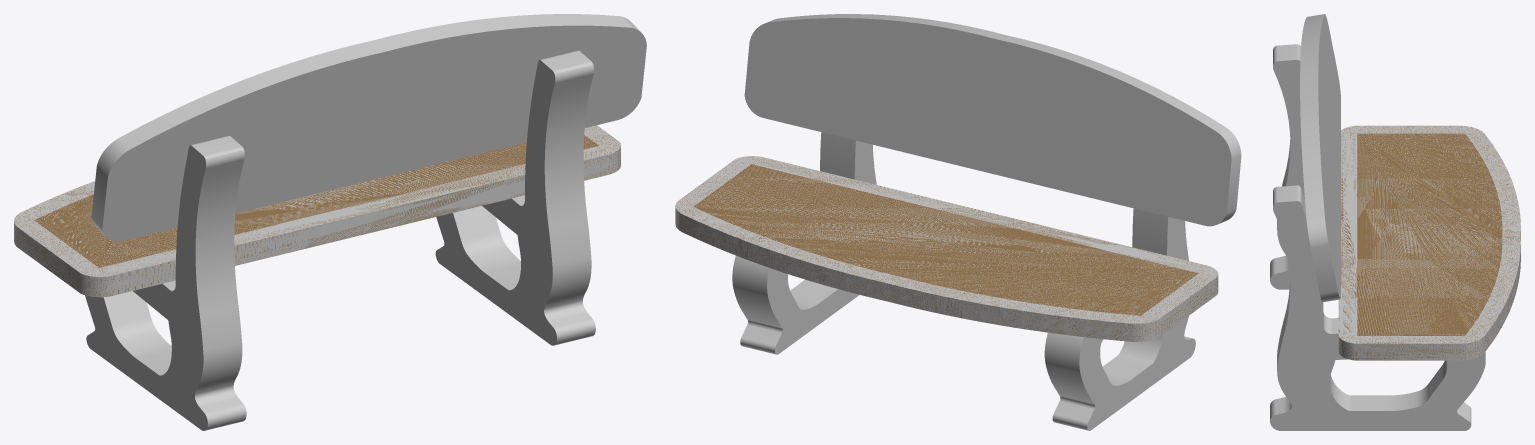
3 views of the same model, side by side, from view 1: azimuth 30°, elevation 25°; view 2: azimuth 150°, elevation 25°; view 3: azimuth 270°, elevation 25° (orthographic). The views are drawn at different scales.
Visible parts, largest first — view 1: mesh8_mesh8-geometry, mesh7_mesh7-geometry, mesh4_mesh4-geometry, mesh1_mesh1-geometry; view 2: mesh8_mesh8-geometry, mesh7_mesh7-geometry, mesh4_mesh4-geometry, mesh1_mesh1-geometry; view 3: mesh7_mesh7-geometry, mesh1_mesh1-geometry, mesh8_mesh8-geometry, mesh4_mesh4-geometry.
Boxes of the visible parts, <box> form: mesh8_mesh8-geometry: <box>91,14,646,241</box>; mesh7_mesh7-geometry: <box>14,125,620,297</box>; mesh4_mesh4-geometry: <box>85,135,246,430</box>; mesh1_mesh1-geometry: <box>435,50,595,345</box>; mesh8_mesh8-geometry: <box>744,14,1241,226</box>; mesh7_mesh7-geometry: <box>675,156,1218,341</box>; mesh4_mesh4-geometry: <box>1044,208,1195,430</box>; mesh1_mesh1-geometry: <box>732,132,876,354</box>; mesh7_mesh7-geometry: <box>1338,125,1520,360</box>; mesh1_mesh1-geometry: <box>1270,185,1485,430</box>; mesh8_mesh8-geometry: <box>1300,14,1340,302</box>; mesh4_mesh4-geometry: <box>1270,44,1304,289</box>.
Bounding box in the file's own units: 0.798 × 0.461 × 0.3881.
